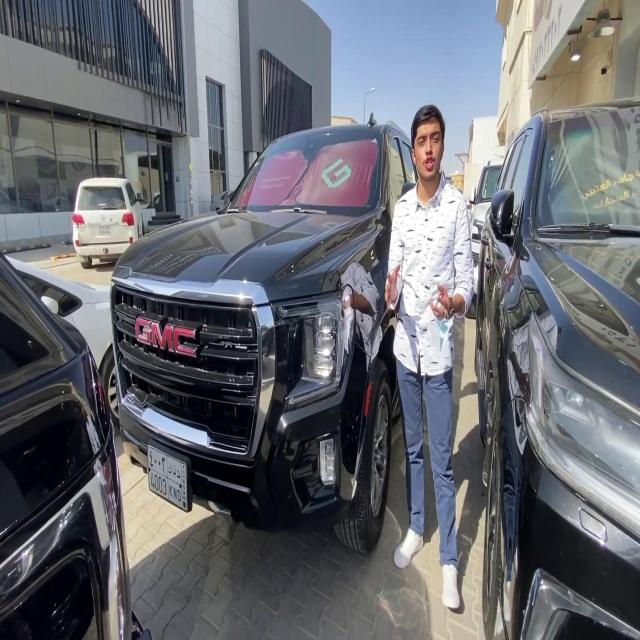license_plate: (140, 436, 190, 518), (92, 218, 112, 236)
